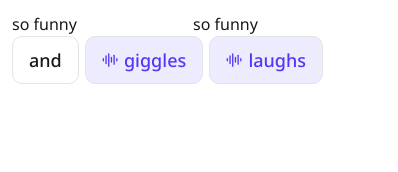
Test: shows tag tiles after the words when the voice reads tags
This screenshot has width=398, height=172.
Click the button "giggles": [144, 60] box [85,36,203,84]
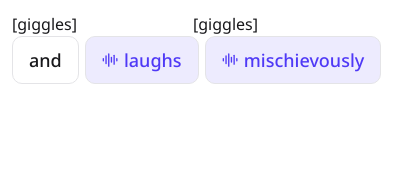
Expected: the text "[giggles]" is shown, [193,13,258,35]
